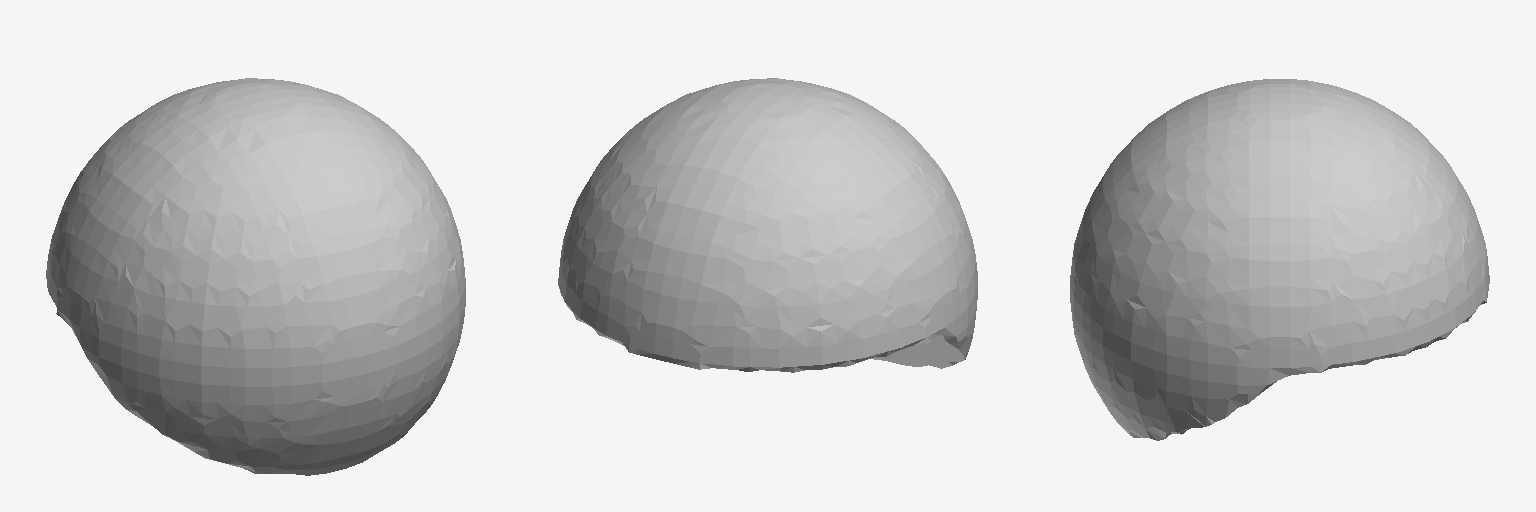
Rendered from upperlid.obj.
The picture shows the model from 3 angles: view 1: azimuth 30°, elevation 25°; view 2: azimuth 150°, elevation 25°; view 3: azimuth 270°, elevation 25°; orthographic projection.
Visible parts, largest first — view 1: Sphere_Sphere.012; view 2: Sphere_Sphere.012; view 3: Sphere_Sphere.012.
Part boxes in pixels (bbox=[...]): Sphere_Sphere.012: bbox=[46, 78, 465, 475]; Sphere_Sphere.012: bbox=[558, 78, 977, 372]; Sphere_Sphere.012: bbox=[1070, 79, 1489, 440].
Size of the model in its own units: 1.98 by 1.64 by 1.98.